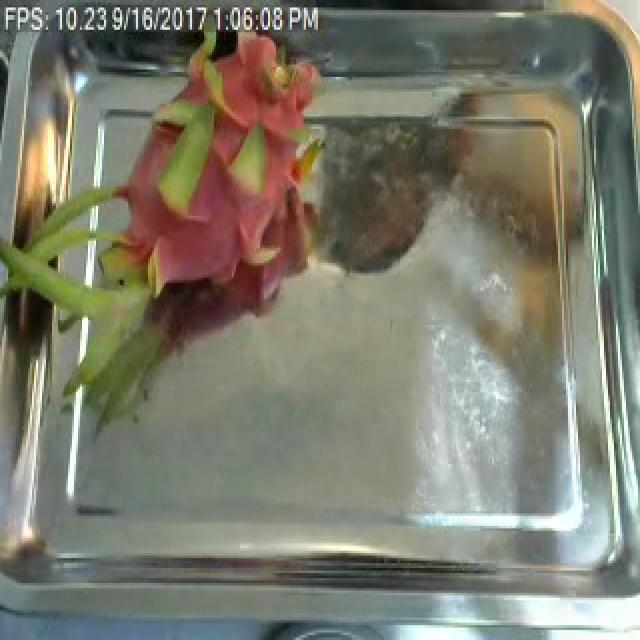fruit: (0, 5, 350, 404)
